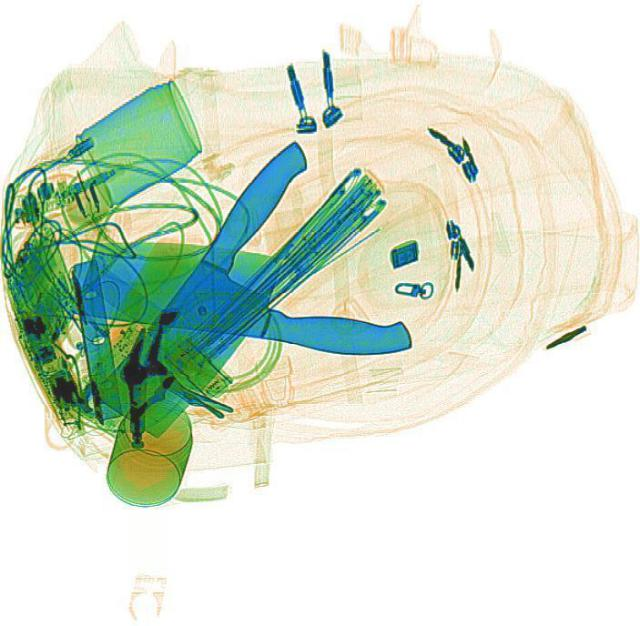Knife: (83, 133, 365, 439), (76, 228, 422, 360)
